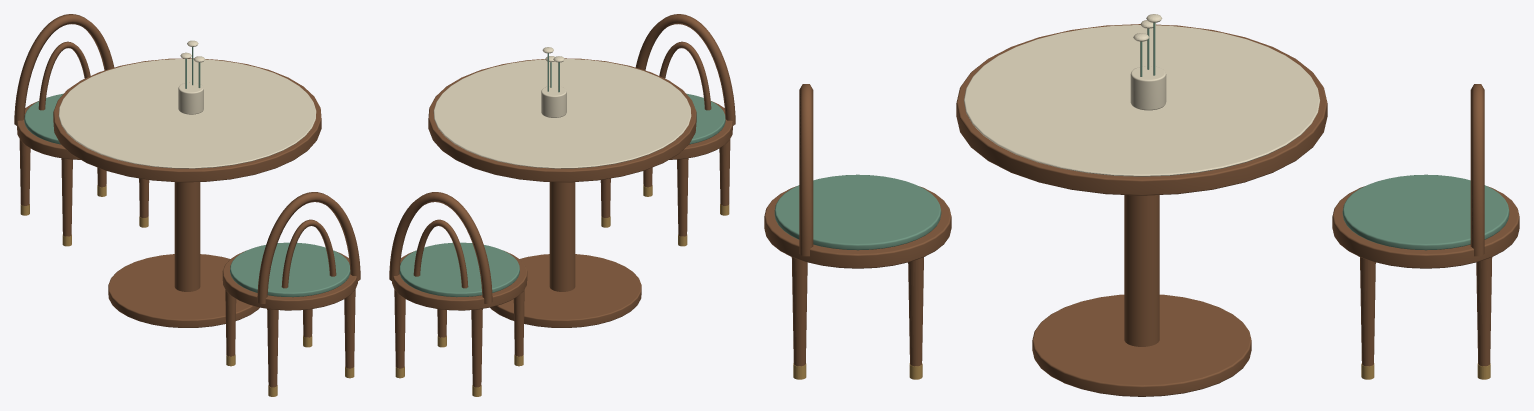
File: bistro-furniture.glb
The picture shows the model from 3 angles, left to right: view 1: azimuth 30°, elevation 25°; view 2: azimuth 150°, elevation 25°; view 3: azimuth 270°, elevation 25°; orthographic projection. The views are drawn at different scales.
Visible parts, largest first — view 1: TB_export_TB_Walnut, TB_export_TB_Cream_stone, TB_export_TB_Sage_seat, TB_export_TB_Brass; view 2: TB_export_TB_Walnut, TB_export_TB_Cream_stone, TB_export_TB_Sage_seat, TB_export_TB_Brass; view 3: TB_export_TB_Walnut, TB_export_TB_Cream_stone, TB_export_TB_Sage_seat, TB_export_TB_Brass.
Part boxes in pixels (bbox=[...]): TB_export_TB_Walnut: bbox=[14, 14, 360, 387]; TB_export_TB_Cream_stone: bbox=[58, 40, 316, 168]; TB_export_TB_Sage_seat: bbox=[24, 47, 350, 297]; TB_export_TB_Brass: bbox=[20, 185, 354, 396]; TB_export_TB_Walnut: bbox=[389, 14, 735, 387]; TB_export_TB_Cream_stone: bbox=[433, 47, 691, 168]; TB_export_TB_Sage_seat: bbox=[399, 53, 725, 297]; TB_export_TB_Brass: bbox=[395, 185, 729, 396]; TB_export_TB_Walnut: bbox=[764, 24, 1519, 396]; TB_export_TB_Cream_stone: bbox=[964, 14, 1319, 176]; TB_export_TB_Sage_seat: bbox=[774, 22, 1509, 250]; TB_export_TB_Brass: bbox=[793, 363, 1490, 379].
Size of the model in its own units: 1.15 by 1.17 by 2.34.
